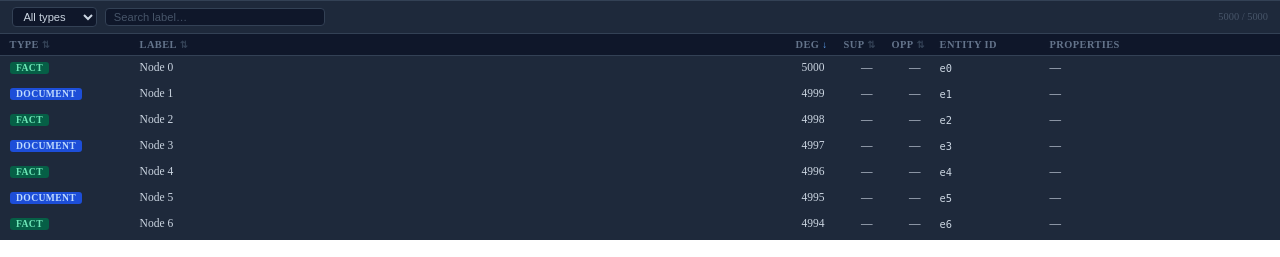
NodeTablePanel virtualisation › still filters and sorts over the whole list
This screenshot has width=1280, height=257.
# "Node 49", "Node 490"–"499", "Node 4900"–"4999": 111 matches.
In the field with class "ntp-search": (215, 17) [105,8,325,26], type "Node 49"
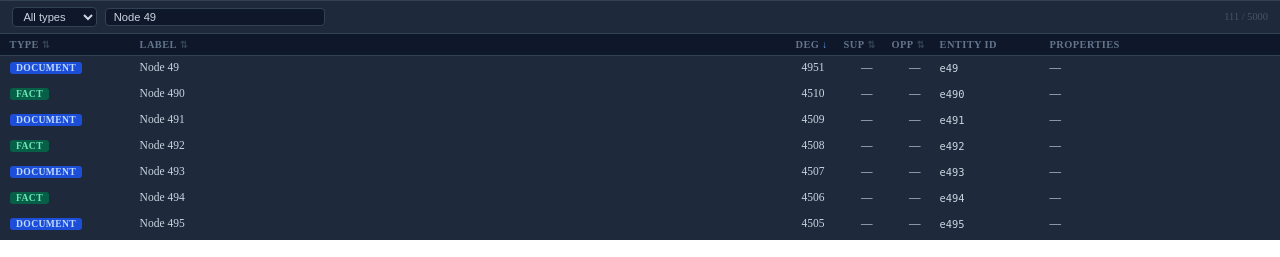
Expected: the cell with class "col-label-cell" reads "Node 49", [140,61,179,73]
# Sorting by label is a real button now, and announces its direction.
Click the button "Label ⇅": (164, 44) [140,39,188,50]
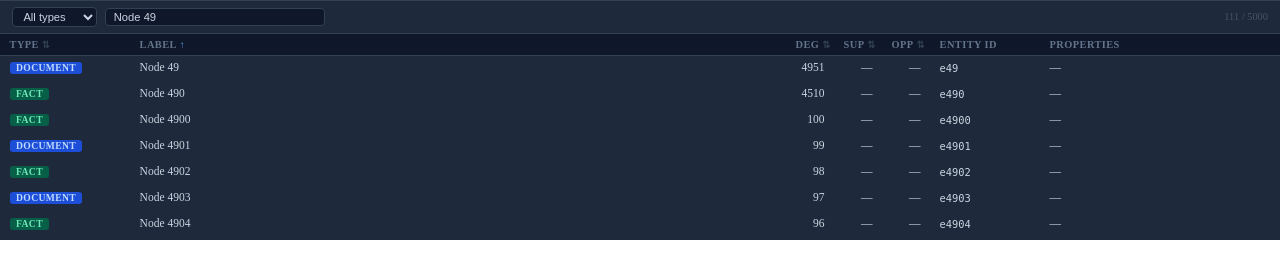
Expected: the cell with class "col-label-cell" reads "Node 49", [140,61,179,73]
Expected: the cell with class "col-label-cell" reads "Node 490", [140,87,185,99]
Replace the text in the field with class "ntp-search" with "no such node": (215, 17) [105,8,325,26]
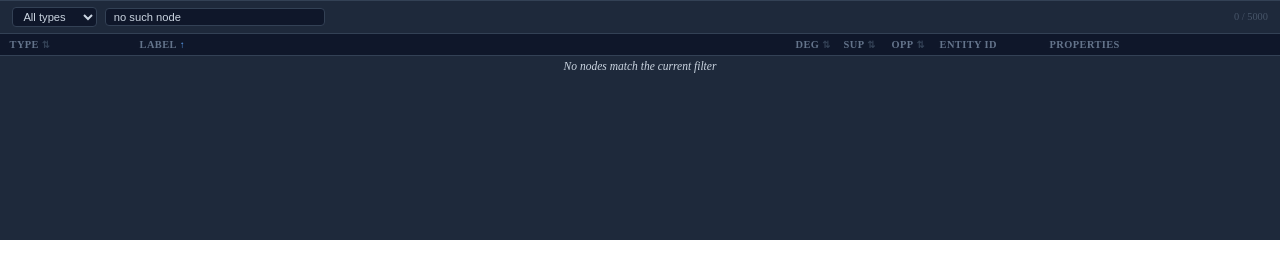
Expected: no rows with class "ntp-row" are shown
Expected: the cell with class "ntp-empty" is shown, [0,55,1279,78]
